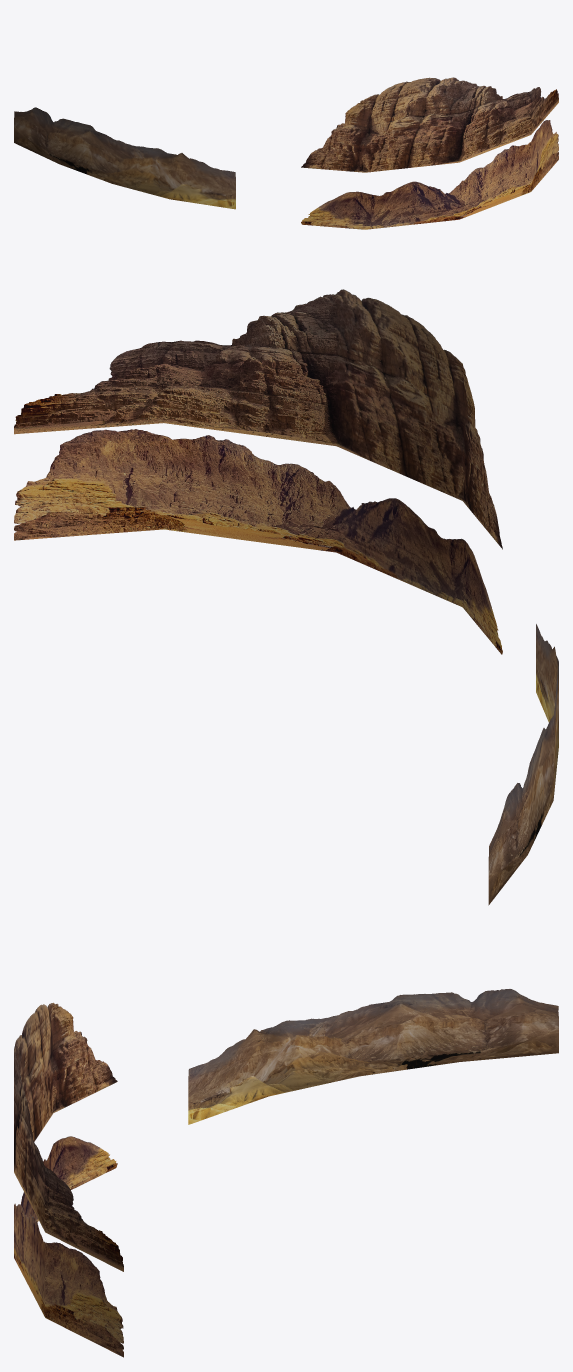
The model's file is Map_P06_PC.fbx.
3 renders of one model, top to bottom at view 1: azimuth 30°, elevation 25°; view 2: azimuth 150°, elevation 25°; view 3: azimuth 270°, elevation 25°, orthographic. The views are drawn at different scales.
Visible parts, largest first — view 1: PC_P06, PC_c3_P06, PC_c2_P06; view 2: PC_P06, PC_c2_P06, PC_c3_P06; view 3: PC_c3_P06, PC_P06, PC_c2_P06.
Boxes of the visible parts, bbox=[...] form: PC_P06: bbox=[301, 77, 558, 172]; PC_c3_P06: bbox=[14, 107, 235, 209]; PC_c2_P06: bbox=[301, 120, 558, 229]; PC_P06: bbox=[14, 289, 502, 549]; PC_c2_P06: bbox=[14, 429, 502, 654]; PC_c3_P06: bbox=[488, 624, 558, 905]; PC_c3_P06: bbox=[188, 989, 558, 1124]; PC_P06: bbox=[14, 1002, 123, 1271]; PC_c2_P06: bbox=[14, 1136, 123, 1357].
Bounding box in the file's own units: 14862 × 5166 × 11709.
